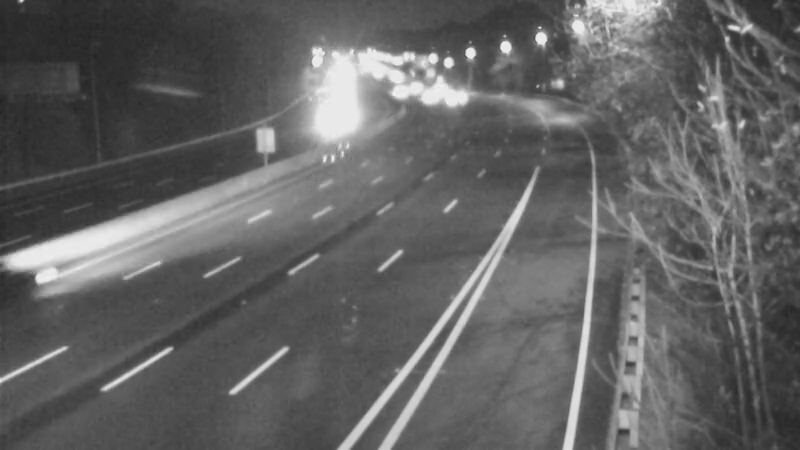vehicle: (436, 75, 486, 125)
